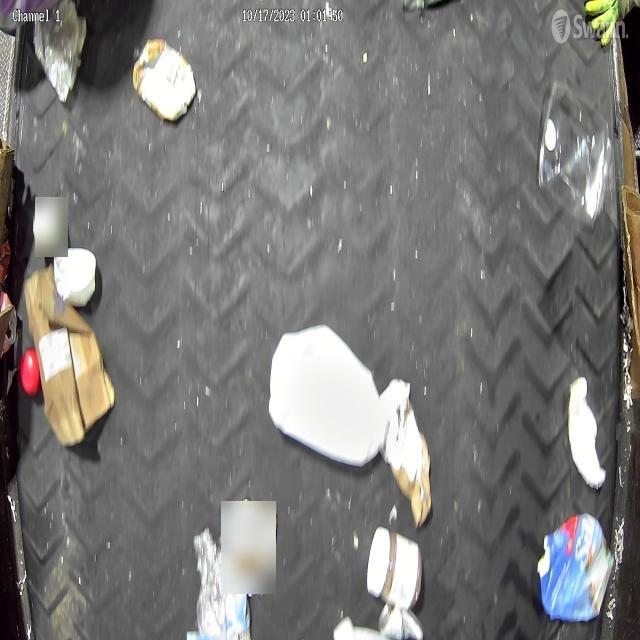milk_jug: (266, 325, 392, 467)
non_white_jug: (538, 512, 614, 622)
